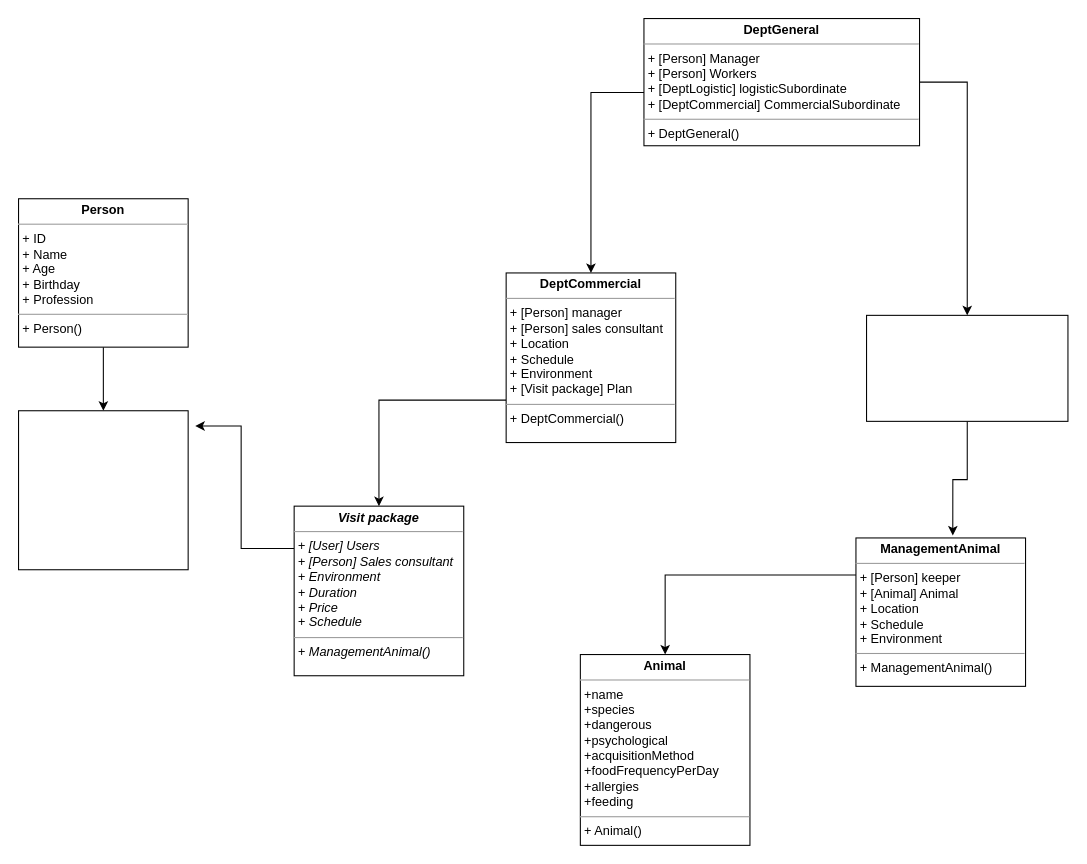
This 1087x864 diagram has some shape labels left out. The shapes that lost their labels are listed below. From the top down, each one's box as (x1, y1, x2, y2) in pixels, then its label:
(865, 314, 1068, 421): DeptLogistic + [Person] Manager + [Mangement Animal] Workers + DeptLogistic()
(17, 410, 188, 570): User + Registry date + userID + Age + Birthday + Profession + User()
